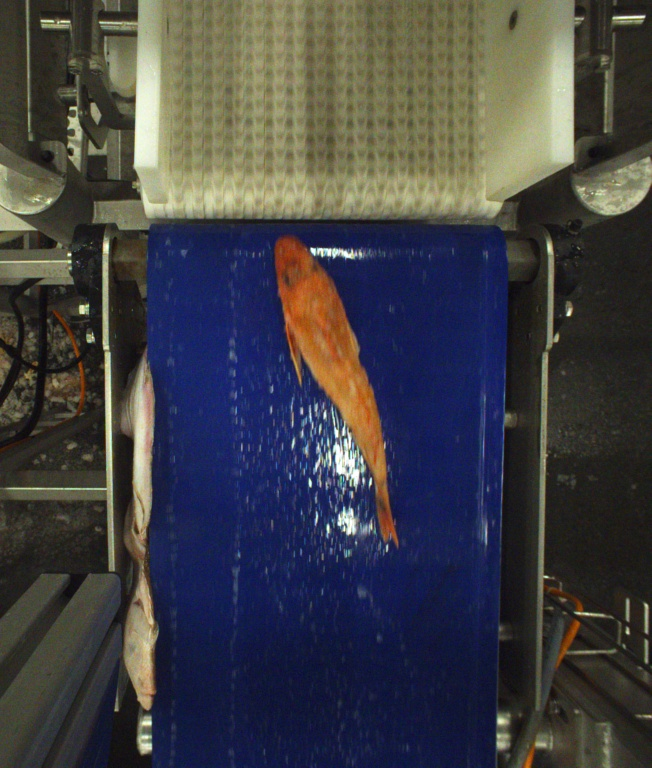GUU: (274, 235, 397, 546)
